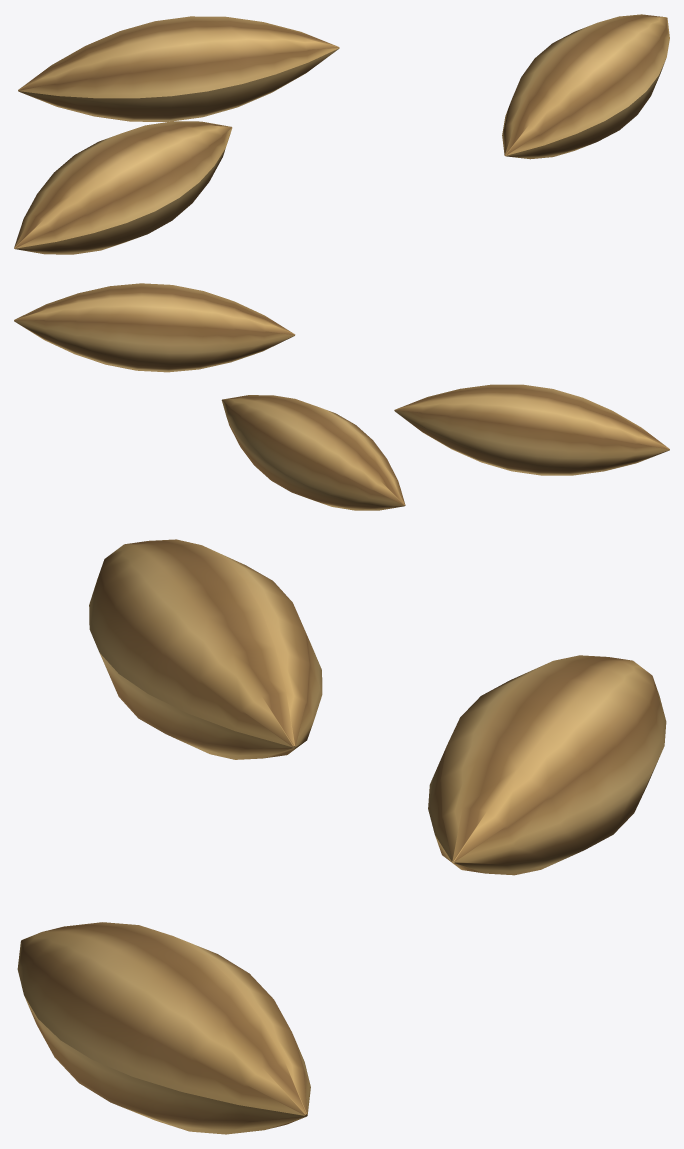
File: NP_Daisy_Seed.fbx
3 renders of one model, top to bottom at view 1: azimuth 30°, elevation 25°; view 2: azimuth 150°, elevation 25°; view 3: azimuth 270°, elevation 25°, orthographic. The views are drawn at different scales.
Parts seen in each view (by area): view 1: NP_Daisy_Seed.001; view 2: NP_Daisy_Seed.001; view 3: NP_Daisy_Seed.001.
Boxes of the visible parts, <box> form: NP_Daisy_Seed.001: <box>14,14,669,254</box>; NP_Daisy_Seed.001: <box>14,283,669,510</box>; NP_Daisy_Seed.001: <box>17,539,666,1134</box>.
Size of the model in its own units: 17.73 by 2.31 by 8.18.
